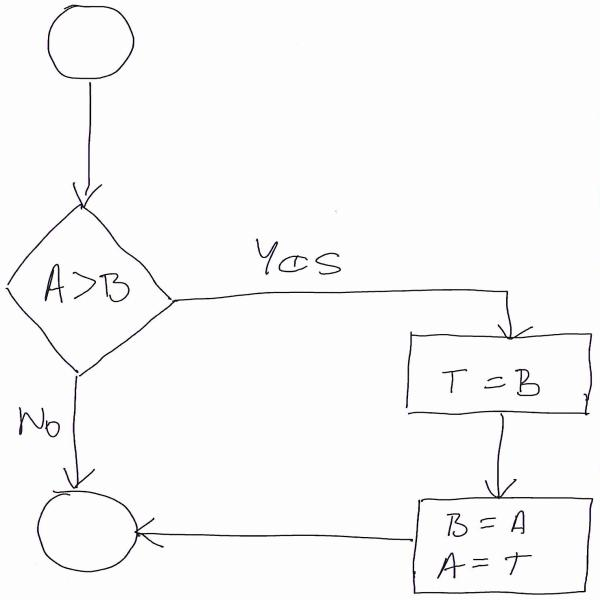arrow: (136, 511, 420, 551), (66, 83, 106, 207), (64, 373, 88, 490), (483, 410, 510, 502)
decision: (2, 199, 178, 383)
process: (402, 324, 591, 421), (417, 491, 591, 595)
terminator: (32, 490, 141, 575), (40, 3, 141, 82)
text: (42, 259, 135, 307), (255, 234, 345, 282), (438, 365, 547, 400), (434, 547, 531, 579), (445, 508, 536, 542), (11, 404, 69, 444)
